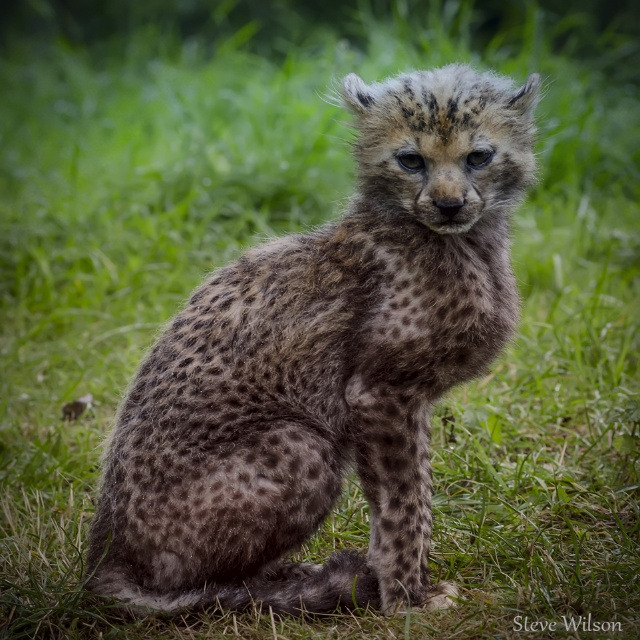Cheetah: (81, 61, 556, 620)
